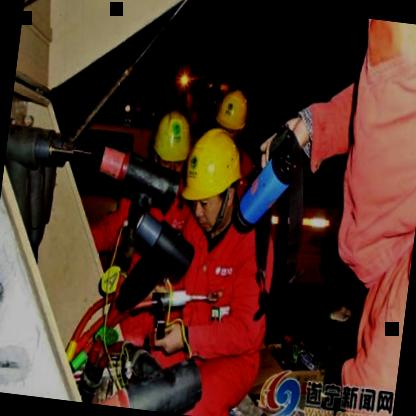helmet: (175, 124, 245, 232), (146, 105, 196, 176), (213, 86, 251, 140)
